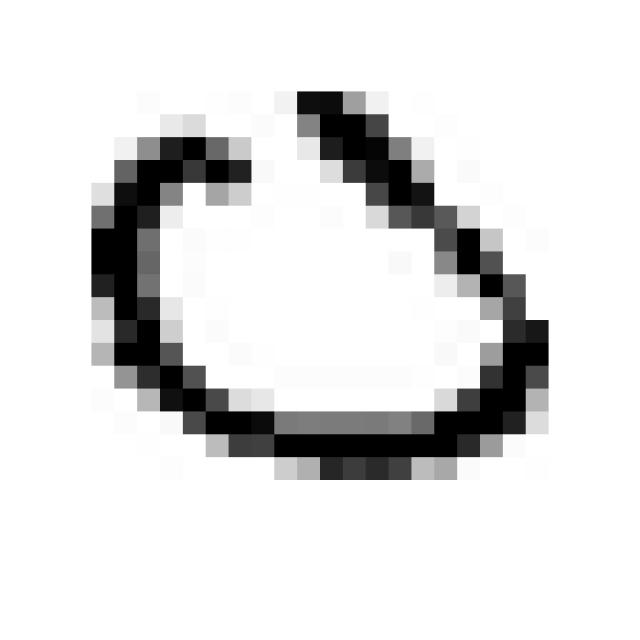5 -five-: (68, 66, 564, 492)
